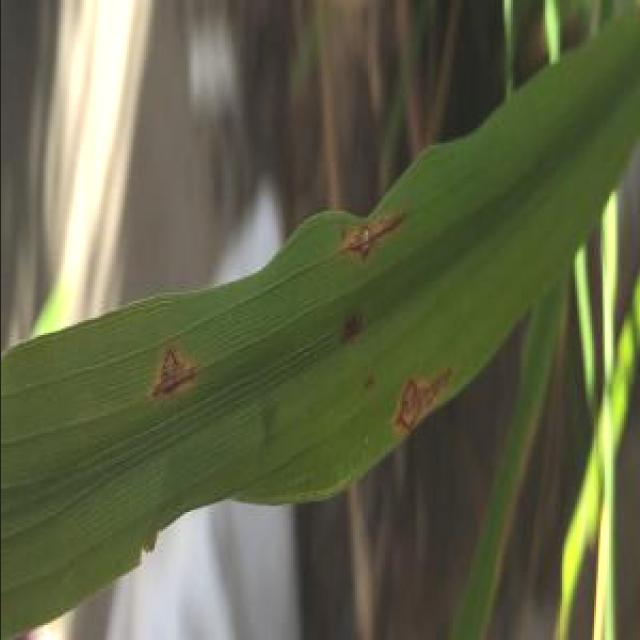Brown_Spot: (136, 335, 220, 410), (332, 202, 412, 270), (391, 362, 449, 439)
